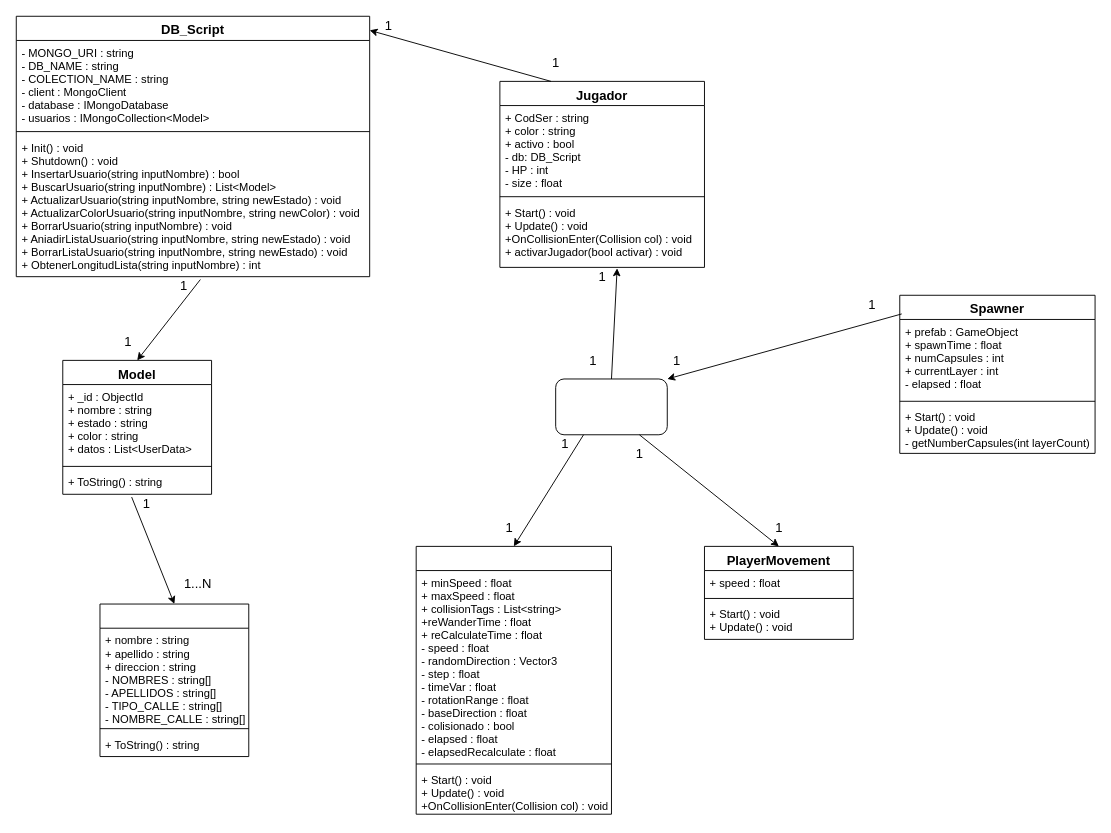
Image size: 1111x833. Some labels were removed from this diagram. Here are the shapes that lost their labels. From the top down, the box of each, then its label:
(555, 378, 667, 435): Player Prefab
(99, 603, 249, 757): UserData
(415, 545, 611, 814): randomMovement
